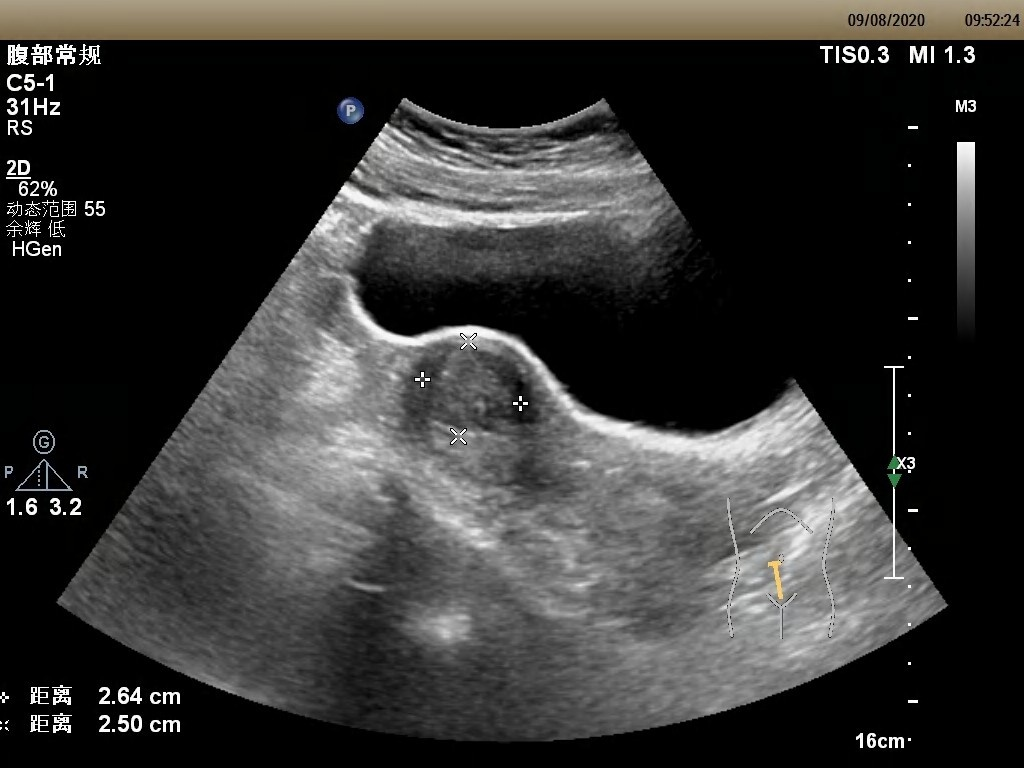肌瘤: (414, 342, 531, 436)
